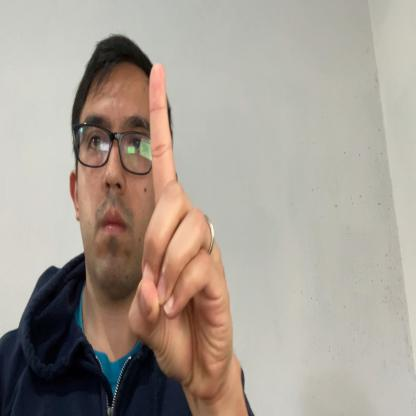D: (128, 63, 233, 389)
